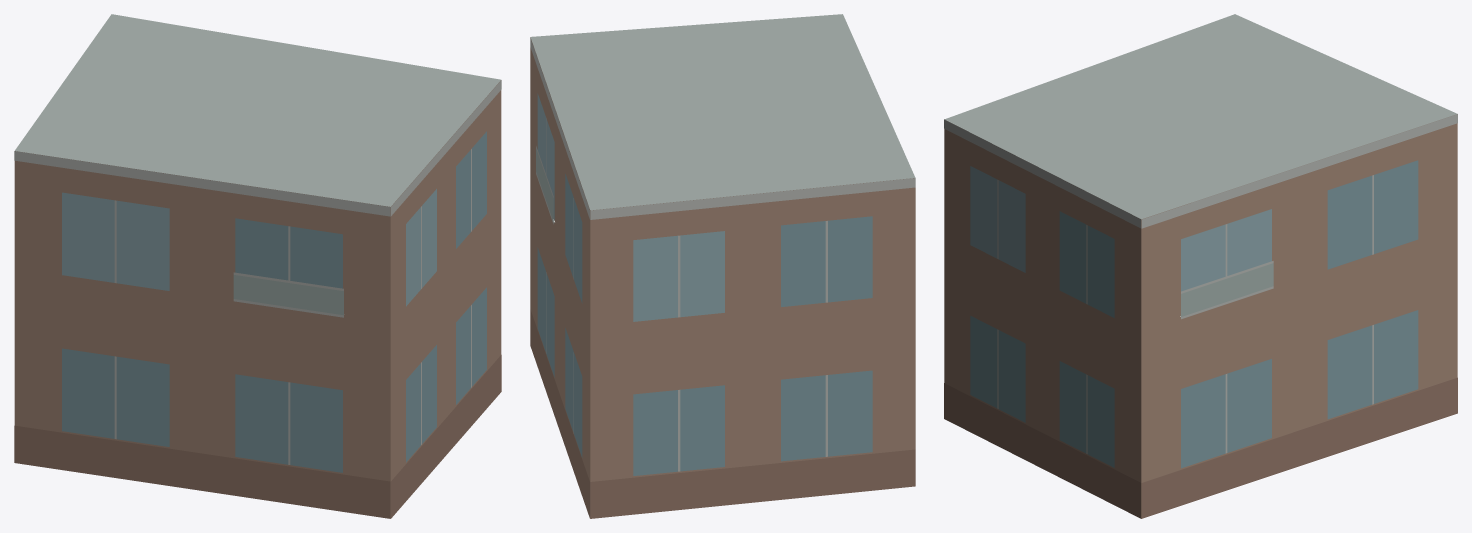
File: survey-upis-32605554.glb
3 views of the same model, side by side, from view 1: azimuth 30°, elevation 25°; view 2: azimuth 150°, elevation 25°; view 3: azimuth 270°, elevation 25° (orthographic). The views are drawn at different scales.
Parts seen in each view (by area): view 1: survey-upis-32605554.tmp; view 2: survey-upis-32605554.tmp; view 3: survey-upis-32605554.tmp.
Part boxes in pixels (x1=…): survey-upis-32605554.tmp: x1=14, y1=14, x2=501, y2=518; survey-upis-32605554.tmp: x1=530, y1=14, x2=915, y2=518; survey-upis-32605554.tmp: x1=944, y1=14, x2=1457, y2=518.
Size of the model in its own units: 11.47 by 7.8 by 12.12.
